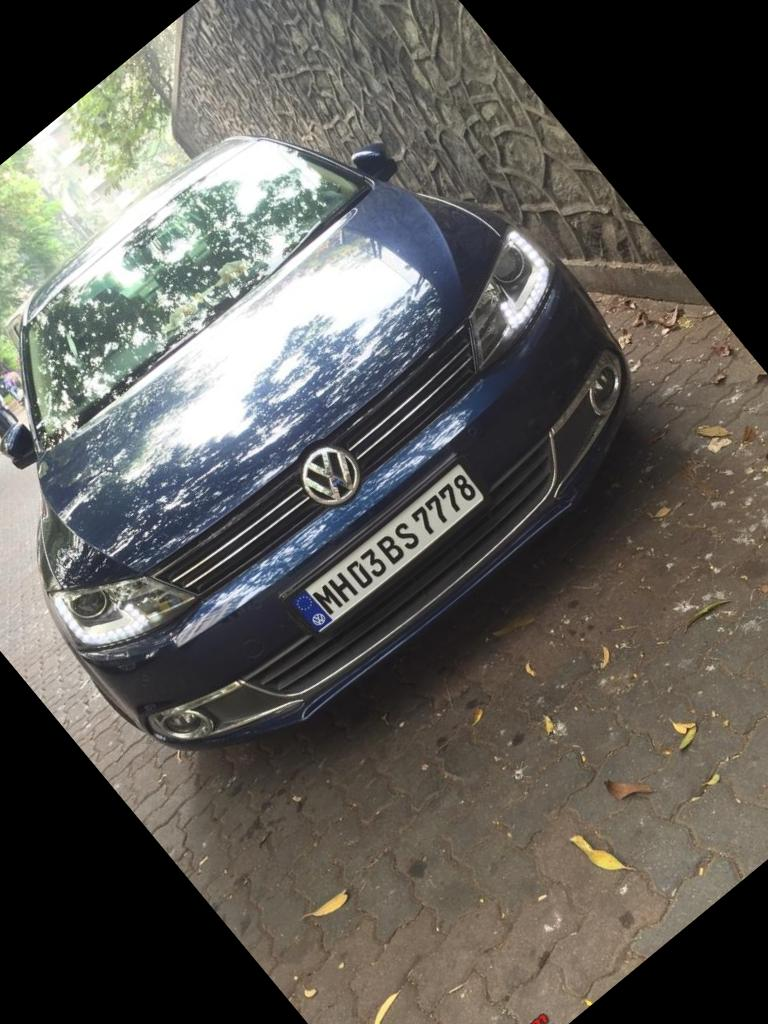plate: (276, 441, 509, 652)
